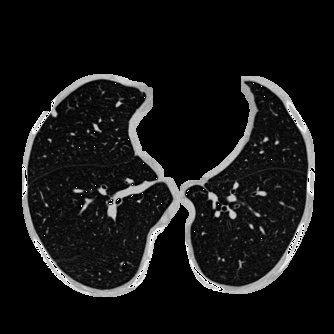PN: (51, 110, 57, 116)
